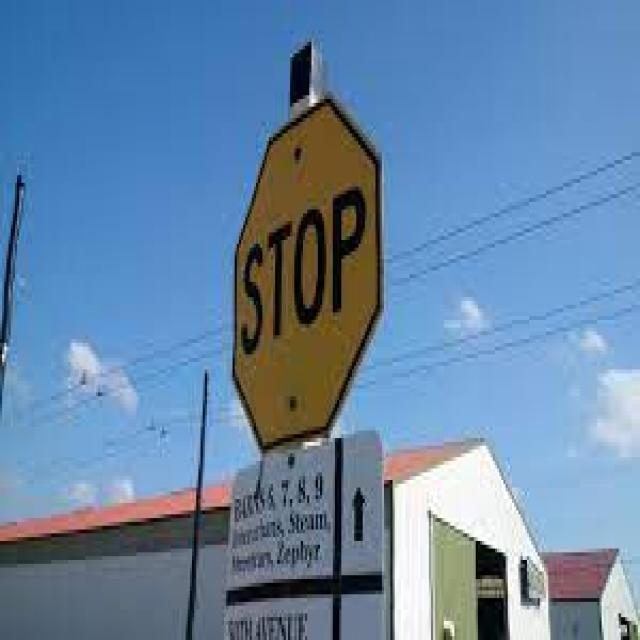stop-sign: (218, 70, 433, 481)
